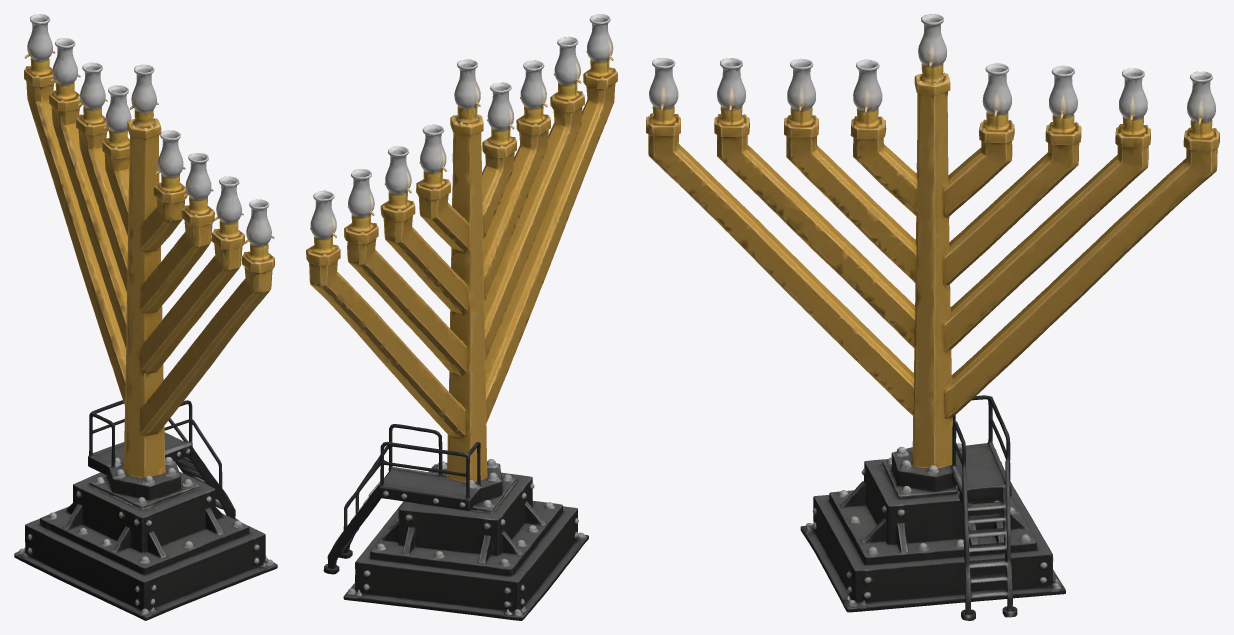
Rendered from lt_menorah_m.glb.
3 views of the same model, side by side, from view 1: azimuth 30°, elevation 25°; view 2: azimuth 150°, elevation 25°; view 3: azimuth 270°, elevation 25° (orthographic). The views are drawn at different scales.
Parts seen in each view (by area): view 1: tripo_node_49851674-09bb-4e78-ad4d-b837b3bcf8df; view 2: tripo_node_49851674-09bb-4e78-ad4d-b837b3bcf8df; view 3: tripo_node_49851674-09bb-4e78-ad4d-b837b3bcf8df.
Boxes of the visible parts, left/top/right/bottom form: tripo_node_49851674-09bb-4e78-ad4d-b837b3bcf8df: left=14, top=14, right=277, bottom=620; tripo_node_49851674-09bb-4e78-ad4d-b837b3bcf8df: left=306, top=14, right=617, bottom=620; tripo_node_49851674-09bb-4e78-ad4d-b837b3bcf8df: left=646, top=14, right=1219, bottom=620.
Size of the model in its own units: 0.4284 by 1 by 0.9566.
1 material, 1 textured.
